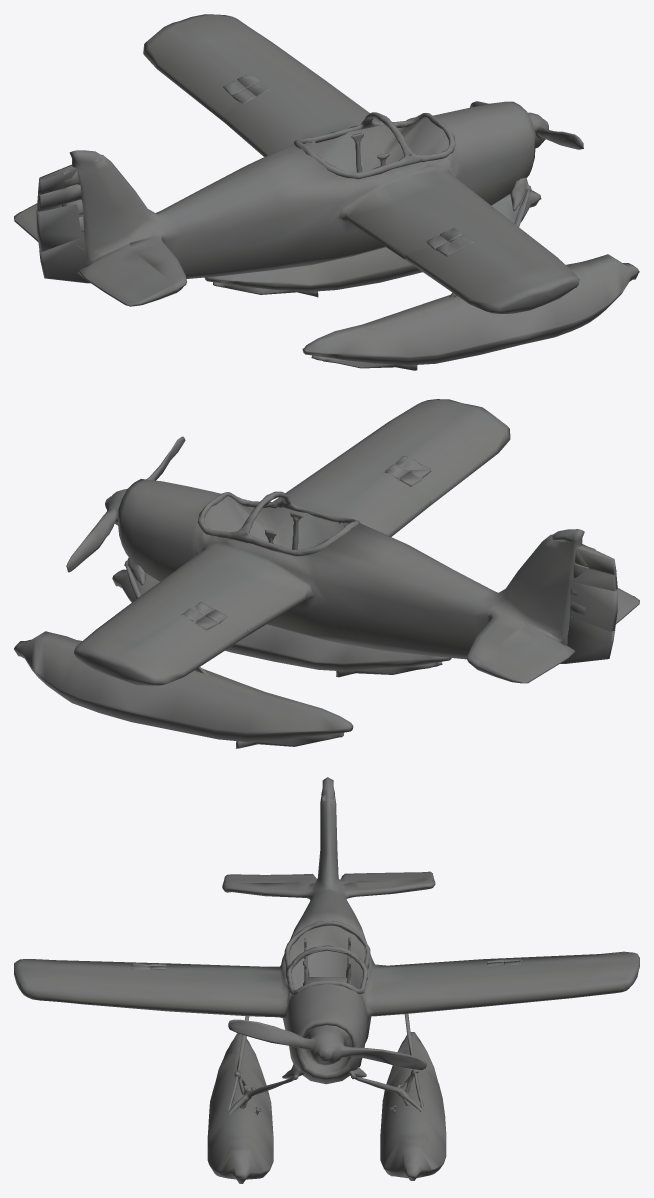
File: r33-seaplane.glb
3 views of the same model, one above another, from view 1: azimuth 30°, elevation 25°; view 2: azimuth 150°, elevation 25°; view 3: azimuth 270°, elevation 25° (orthographic). The views are drawn at different scales.
Visible parts, largest first — view 1: tripo_node_878cb02b-bf5f-4877-9f71-f2647d0c038c; view 2: tripo_node_878cb02b-bf5f-4877-9f71-f2647d0c038c; view 3: tripo_node_878cb02b-bf5f-4877-9f71-f2647d0c038c.
Boxes of the visible parts, left/top/right/bottom form: tripo_node_878cb02b-bf5f-4877-9f71-f2647d0c038c: left=14, top=14, right=639, bottom=370; tripo_node_878cb02b-bf5f-4877-9f71-f2647d0c038c: left=14, top=399, right=639, bottom=748; tripo_node_878cb02b-bf5f-4877-9f71-f2647d0c038c: left=14, top=777, right=639, bottom=1183.
Bounding box in the file's own units: 0.8848 × 0.3809 × 0.998.
Materials: 1 (1 with a texture image).
